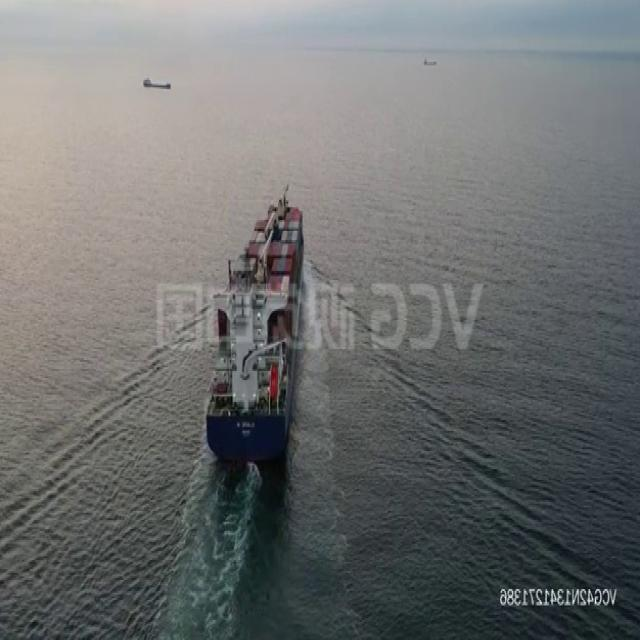cargoship: (205, 181, 307, 471), (142, 68, 172, 96), (422, 55, 442, 67)
